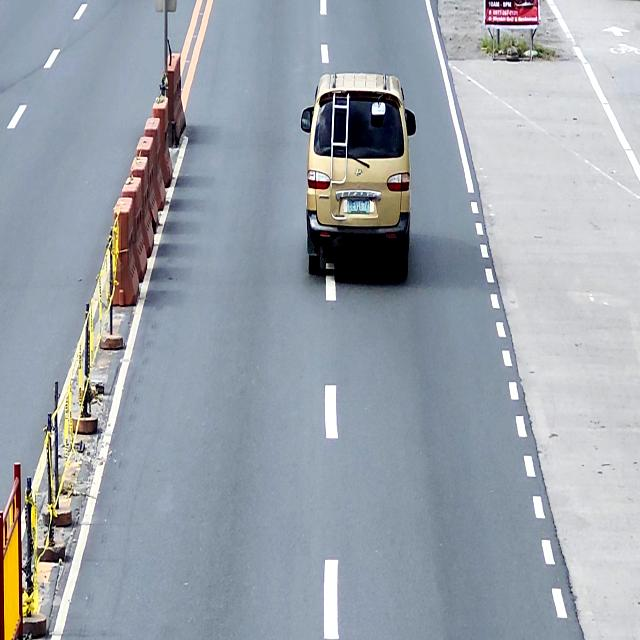Car: (300, 71, 416, 278)
License-Plate: (345, 196, 374, 215)
